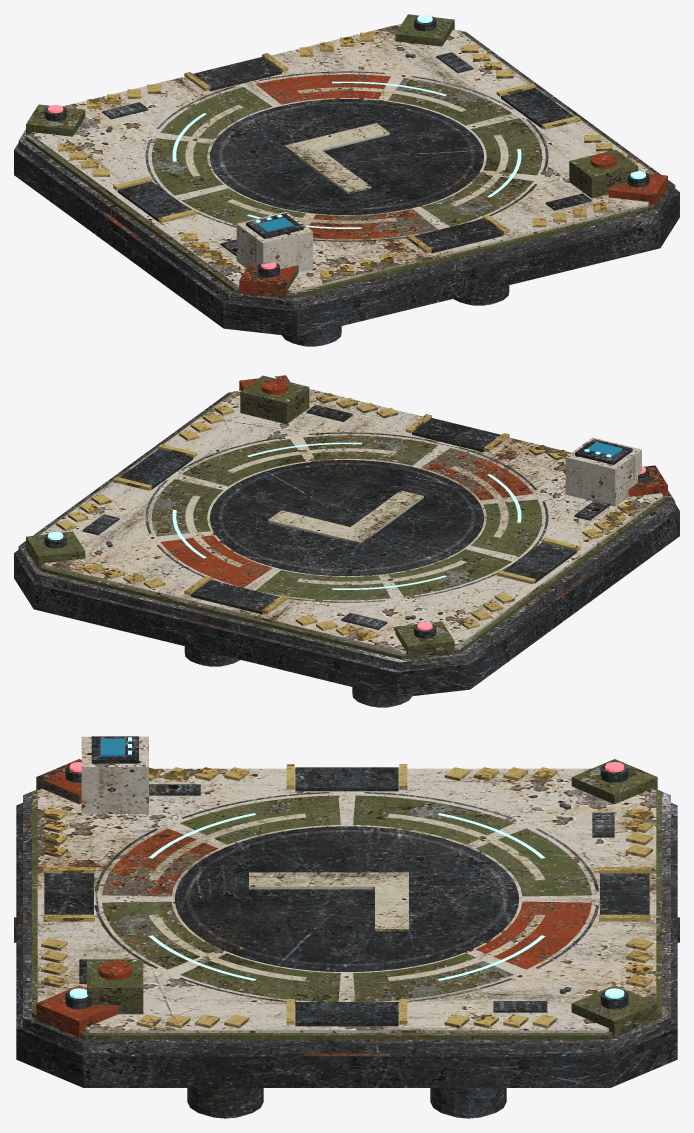
The model's file is LandingPad_Industrial.glb.
The picture shows the model from 3 angles, top to bottom: view 1: azimuth 30°, elevation 25°; view 2: azimuth 150°, elevation 25°; view 3: azimuth 270°, elevation 25°; orthographic projection. The views are drawn at different scales.
Visible parts, largest first — view 1: Deck, Chassis (×2), Touchdown plate (×2), Deck plating (×3), Docking apron (×2), Landing markings, Corner fender (×2), Hazard markings, Deck edge, Service console (×2), Fuel coupling, Attitude thrusters (+3 smaller); view 2: Deck, Chassis (×2), Touchdown plate (×2), Deck plating (×3), Docking apron (×2), Landing markings, Hazard markings, Deck edge, Service console (×2), Corner fender (×2), Fuel coupling, Service hatches (+3 smaller); view 3: Deck, Chassis (×2), Touchdown plate (×2), Deck plating (×3), Docking apron (×2), Landing markings, Hazard markings, Corner fender (×2), Deck edge, Service console (×2), Attitude thrusters, Fuel coupling (+3 smaller).
Part boxes in pixels (<box>): Deck: <box>31,23,653,292</box>; Chassis (×2): <box>14,31,679,336</box>; Touchdown plate (×2): <box>210,99,483,214</box>; Deck plating (×3): <box>145,71,548,241</box>; Docking apron (×2): <box>113,53,580,253</box>; Landing markings: <box>185,87,508,223</box>; Corner fender (×2): <box>26,14,667,298</box>; Hazard markings: <box>57,32,635,279</box>; Deck edge: <box>25,30,668,298</box>; Service console (×2): <box>236,212,312,271</box>; Fuel coupling: <box>569,149,638,198</box>; Attitude thrusters: <box>282,285,509,345</box>; Deck: <box>40,389,662,653</box>; Chassis (×2): <box>14,392,679,697</box>; Touchdown plate (×2): <box>210,460,483,575</box>; Deck plating (×3): <box>145,432,548,602</box>; Docking apron (×2): <box>113,414,580,614</box>; Landing markings: <box>185,448,508,584</box>; Hazard markings: <box>56,393,637,640</box>; Deck edge: <box>25,391,668,659</box>; Service console (×2): <box>565,437,641,506</box>; Corner fender (×2): <box>26,375,667,659</box>; Fuel coupling: <box>240,375,309,424</box>; Service hatches: <box>82,405,610,629</box>; Deck: <box>37,768,656,1032</box>; Chassis (×2): <box>16,790,677,1087</box>; Touchdown plate (×2): <box>175,826,518,971</box>; Deck plating (×3): <box>94,792,599,1002</box>; Docking apron (×2): <box>43,764,650,1026</box>; Landing markings: <box>148,813,545,981</box>; Hazard markings: <box>41,767,652,1028</box>; Corner fender (×2): <box>36,759,657,1037</box>; Deck edge: <box>32,789,661,1039</box>; Service console (×2): <box>81,736,148,813</box>; Attitude thrusters: <box>187,1088,506,1117</box>; Fuel coupling: <box>87,959,143,1014</box>.
Size of the model in its own units: 2.96 by 1.03 by 2.96.
10 materials, 7 textured.
